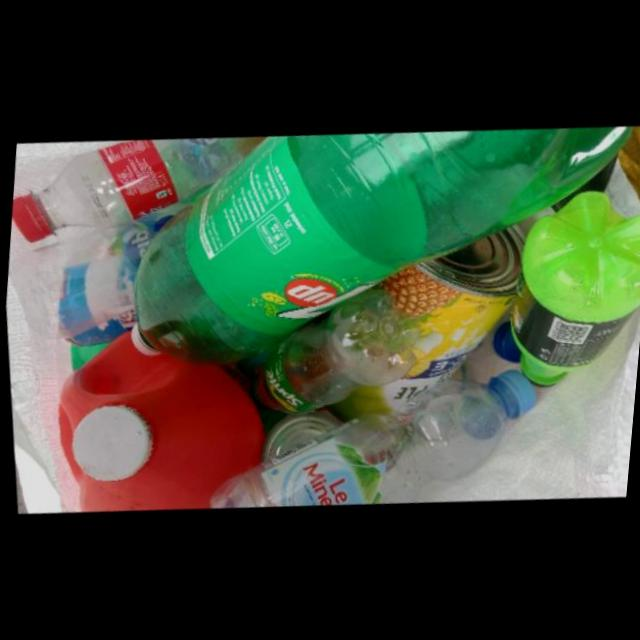chai_nhua: (127, 125, 632, 362), (55, 330, 264, 512), (508, 188, 640, 385)
chai_nhua_pet: (206, 368, 534, 508), (10, 135, 266, 242), (6, 194, 188, 339), (253, 283, 420, 413)
nhom: (322, 223, 523, 421), (257, 406, 342, 462)
